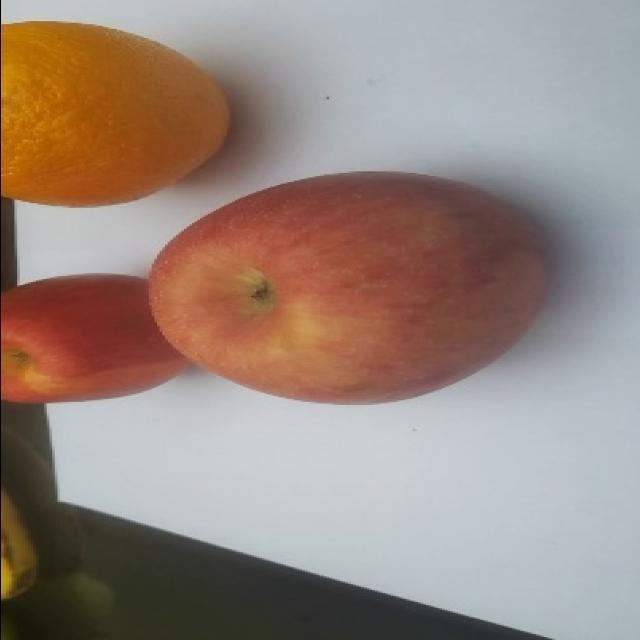Apple: (147, 169, 551, 405)
Orange: (0, 19, 231, 207)
